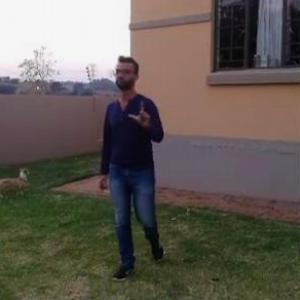land_hand: (126, 94, 158, 132)
